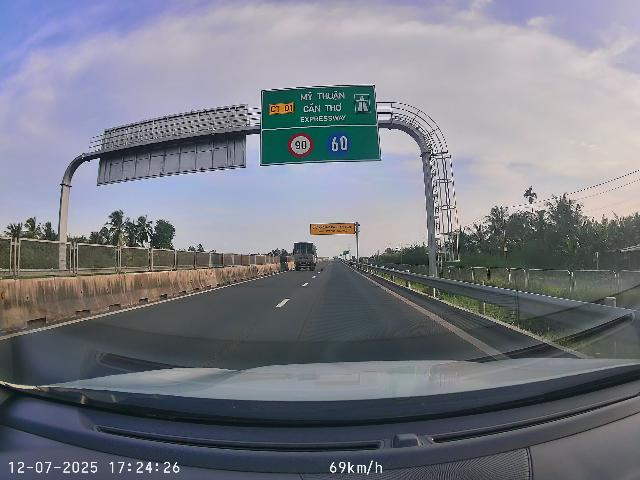127-toc-do-toi-da-90: (287, 133, 314, 158)
306-toc-do-toi-thieu-60: (325, 131, 352, 156)
437-bat-dau-duong-cao-toc: (353, 93, 372, 114)
